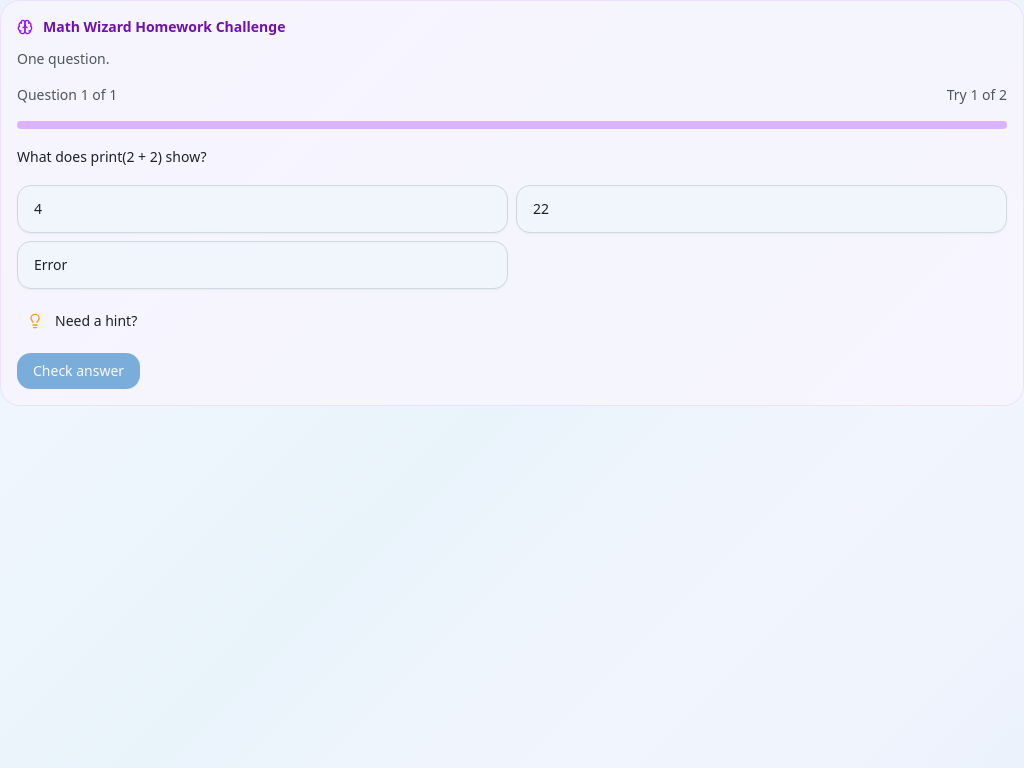
QuickCheck › shows the originally locked answer when a stale page resubmits a question
Expected: the heading "Math Wizard Homework Challenge" is shown, [43,17,285,37]
Click the radio button labelled "4".
click(38, 208)  # box [17,185,508,233]
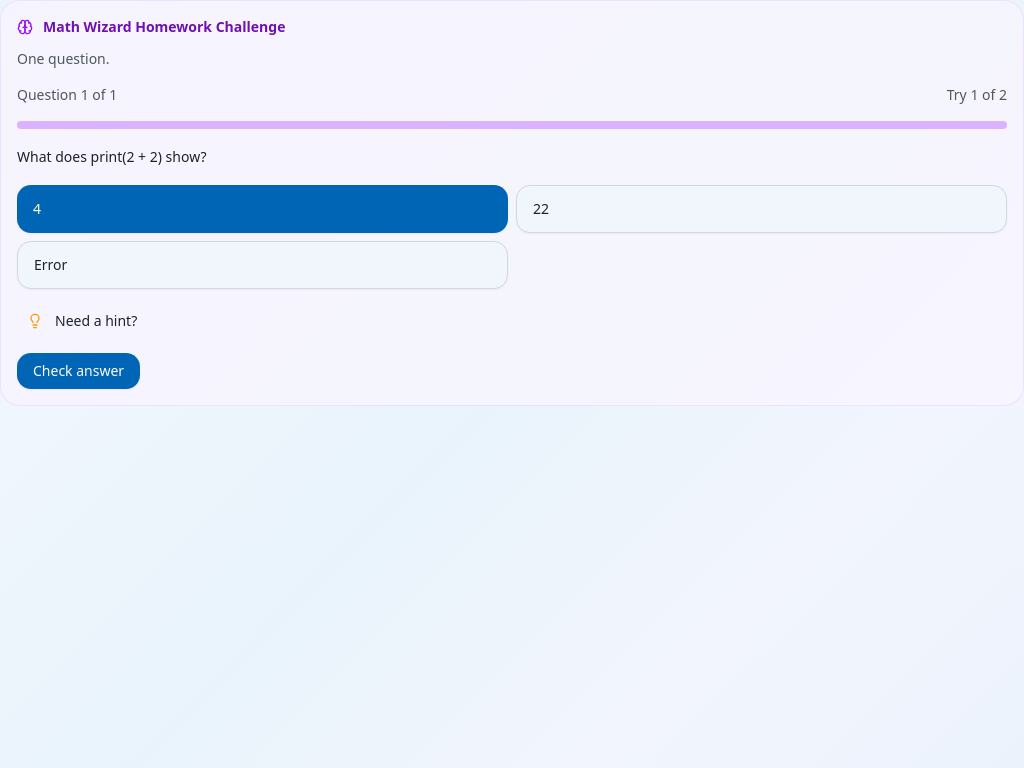
Click the button "Check answer".
click(79, 371)  # box [17,353,140,389]
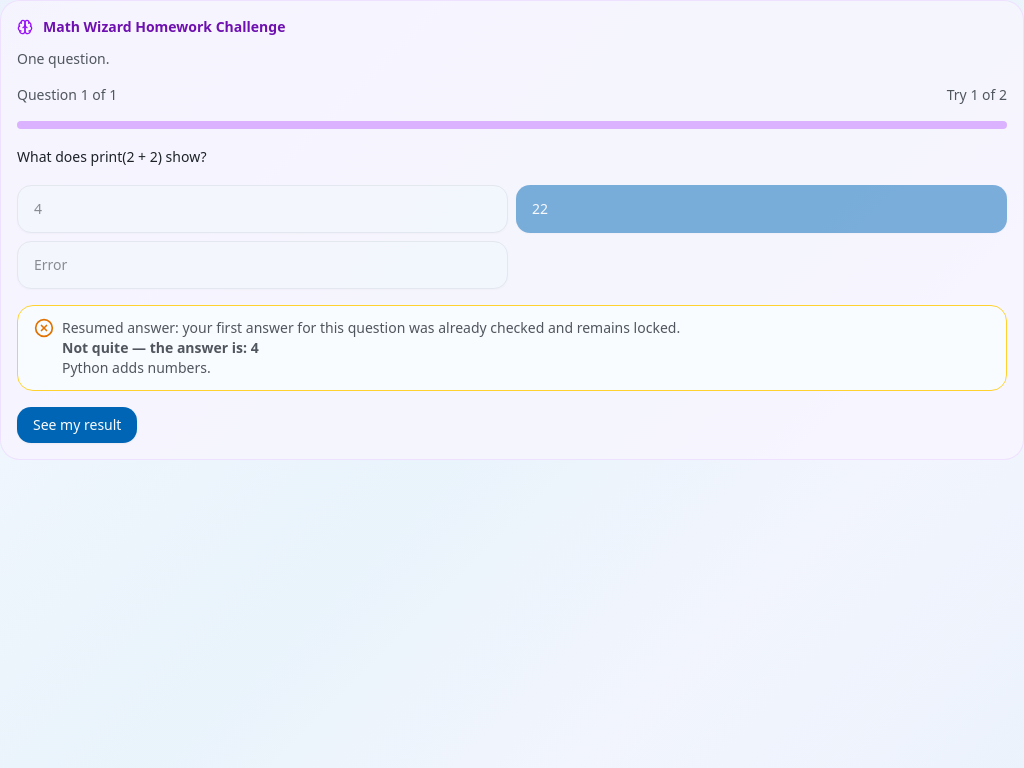
Expected: the text "Resumed answer" is shown, [62,318,680,337]
Expected: the text "Not quite — the answer is: 4" is shown, [62,338,259,357]
